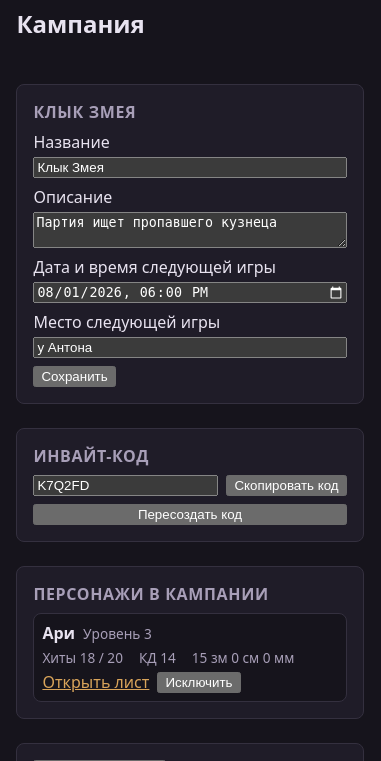
Test case: CampaignPage › copies the invite code to the clipboard
Click the button "Скопировать код": (286, 486) [226,475,347,496]
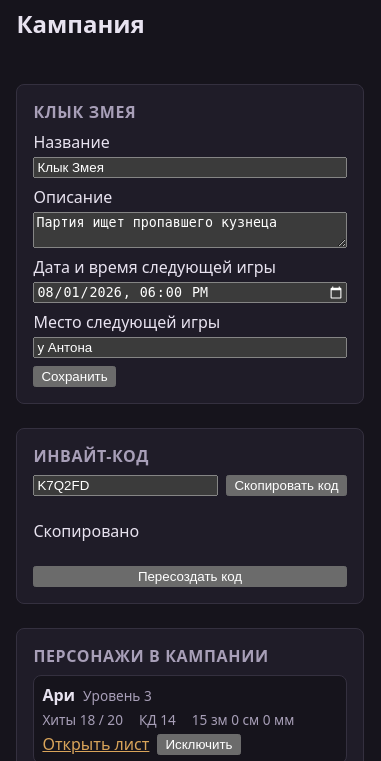
Now the text "Скопировано" is shown, box [33,520,139,542]
